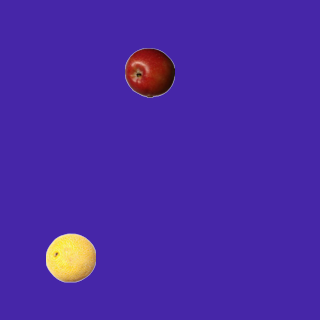Apple Braeburn: (124, 47, 174, 97)
Cantaloupe 1: (45, 232, 95, 282)
